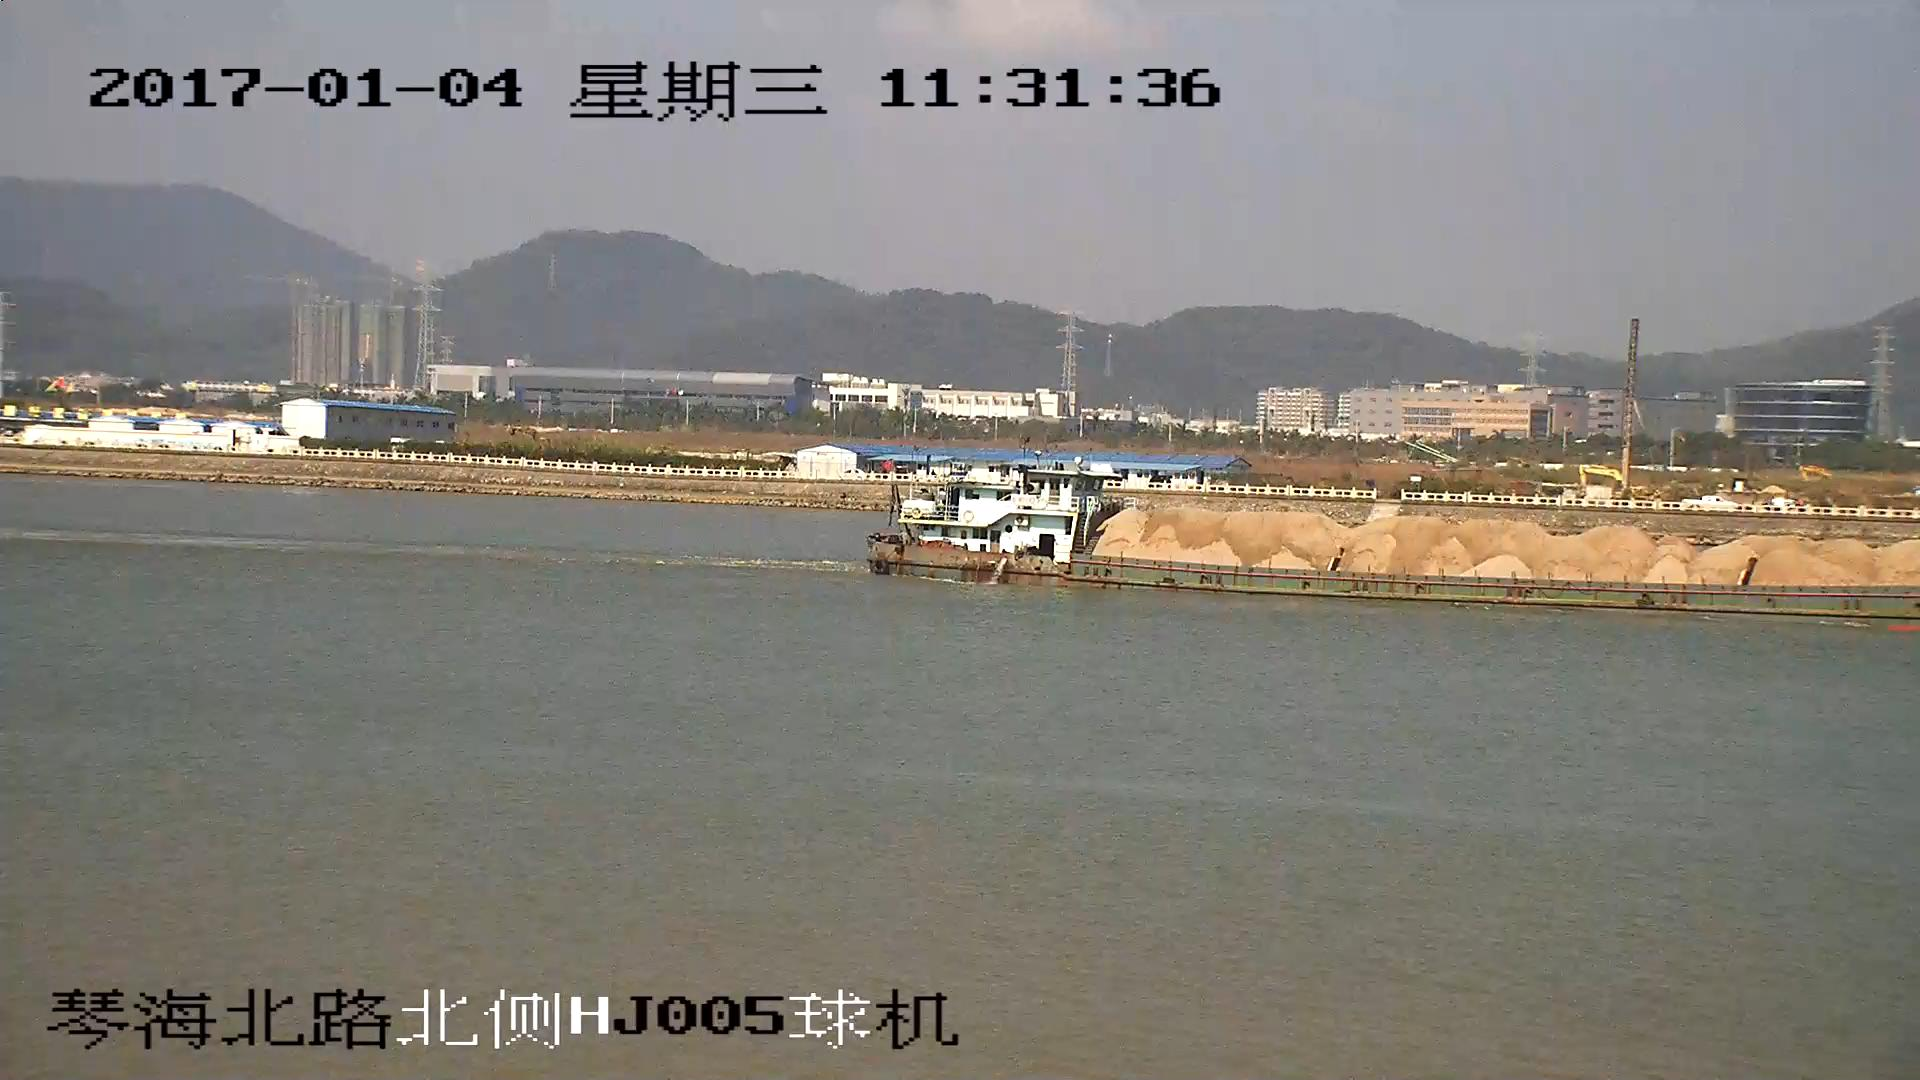ore carrier: (874, 458, 1920, 625)
